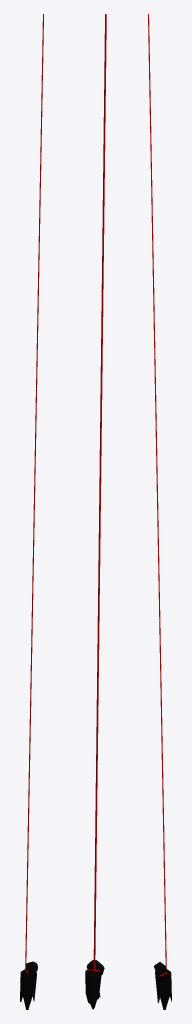
The model's file is deadbird.glb.
The picture shows the model from 3 angles, left to right: view 1: azimuth 90°, elevation 25°; view 2: azimuth 150°, elevation 25°; view 3: azimuth 270°, elevation 25°; orthographic projection.
Parts seen in each view (by area): view 1: Cube.001, Cube; view 2: Cube.001, Cube; view 3: Cube.001, Cube.
Boxes of the visible parts, x1,y1,x2,y2 form: Cube.001: (25,14,43,973); Cube: (20,961,37,1009); Cube.001: (87,14,106,971); Cube: (85,960,104,1009); Cube.001: (148,14,166,976); Cube: (154,962,171,1009).
Bounding box in the file's own units: 3.75 × 228 × 5.
